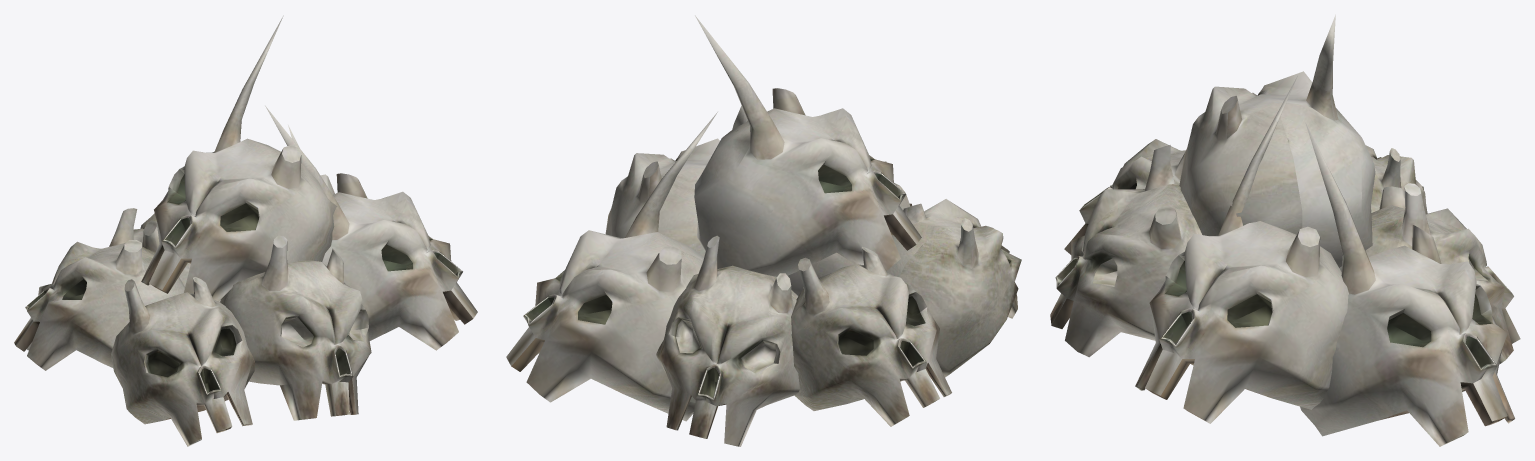
The model's file is SM_SkullClusterA.fbx.
3 renders of one model, left to right at view 1: azimuth 30°, elevation 25°; view 2: azimuth 150°, elevation 25°; view 3: azimuth 270°, elevation 25°, orthographic. The views are drawn at different scales.
Parts seen in each view (by area): view 1: SM_SkullB2, SM_SkullC1, SM_SkullA1, SM_SkullB1, SM_SkullA2, SM_SkullC2; view 2: SM_SkullB2, SM_SkullB3, SM_SkullA2, SM_SkullC2, SM_SkullA1, SM_SkullB1, SM_SkullC1; view 3: SM_SkullB1, SM_SkullB3, SM_SkullB2, SM_SkullC1, SM_SkullC2, SM_SkullA1, SM_SkullA2.
Part boxes in pixels (<box>): SM_SkullB2: <box>141,15,337,301</box>; SM_SkullC1: <box>220,235,371,420</box>; SM_SkullA1: <box>111,277,255,446</box>; SM_SkullB1: <box>265,105,477,350</box>; SM_SkullA2: <box>14,208,184,370</box>; SM_SkullC2: <box>133,213,220,302</box>; SM_SkullB2: <box>694,15,921,276</box>; SM_SkullB3: <box>506,112,717,421</box>; SM_SkullA2: <box>791,246,951,426</box>; SM_SkullC2: <box>656,235,799,446</box>; SM_SkullA1: <box>886,199,1021,377</box>; SM_SkullB1: <box>605,105,747,257</box>; SM_SkullC1: <box>788,141,912,295</box>; SM_SkullB1: <box>1135,76,1348,423</box>; SM_SkullB3: <box>1300,122,1514,446</box>; SM_SkullB2: <box>1179,14,1375,267</box>; SM_SkullC1: <box>1050,145,1201,357</box>; SM_SkullC2: <box>1365,183,1520,364</box>; SM_SkullA1: <box>1064,139,1185,254</box>; SM_SkullA2: <box>1366,145,1427,214</box>.
Size of the model in its own units: 96.41 by 86.98 by 91.
